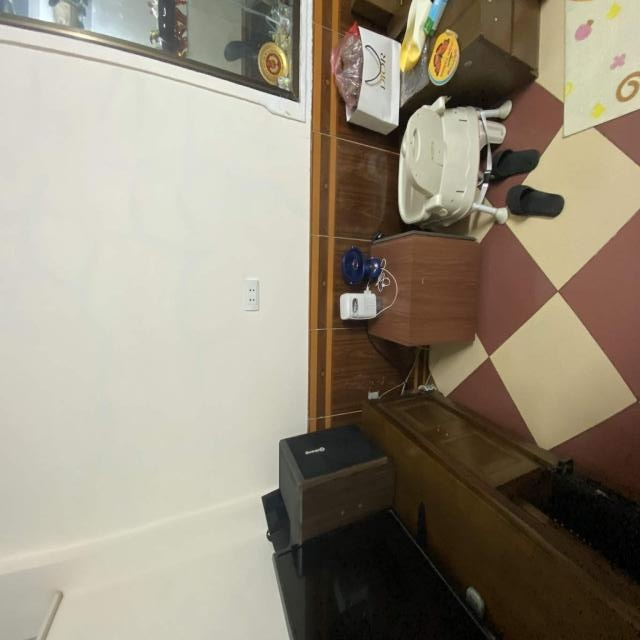outlet: (244, 279, 259, 311)
